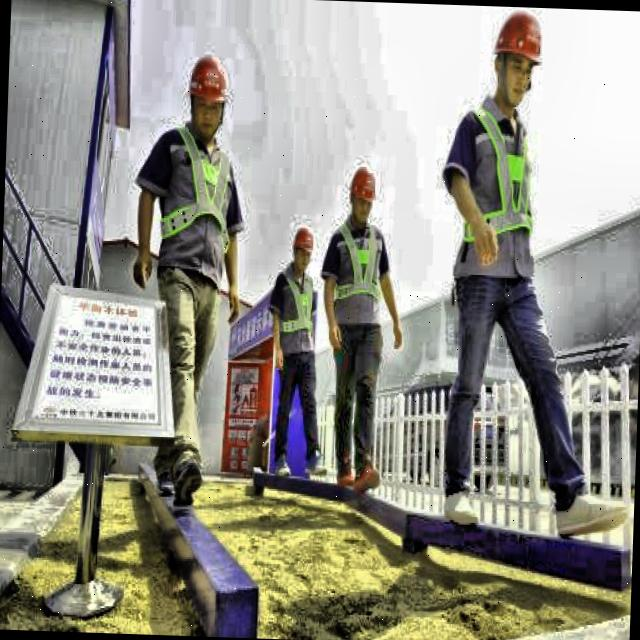helmet: (490, 8, 544, 104), (186, 53, 232, 141), (346, 162, 376, 225), (290, 226, 314, 273)
